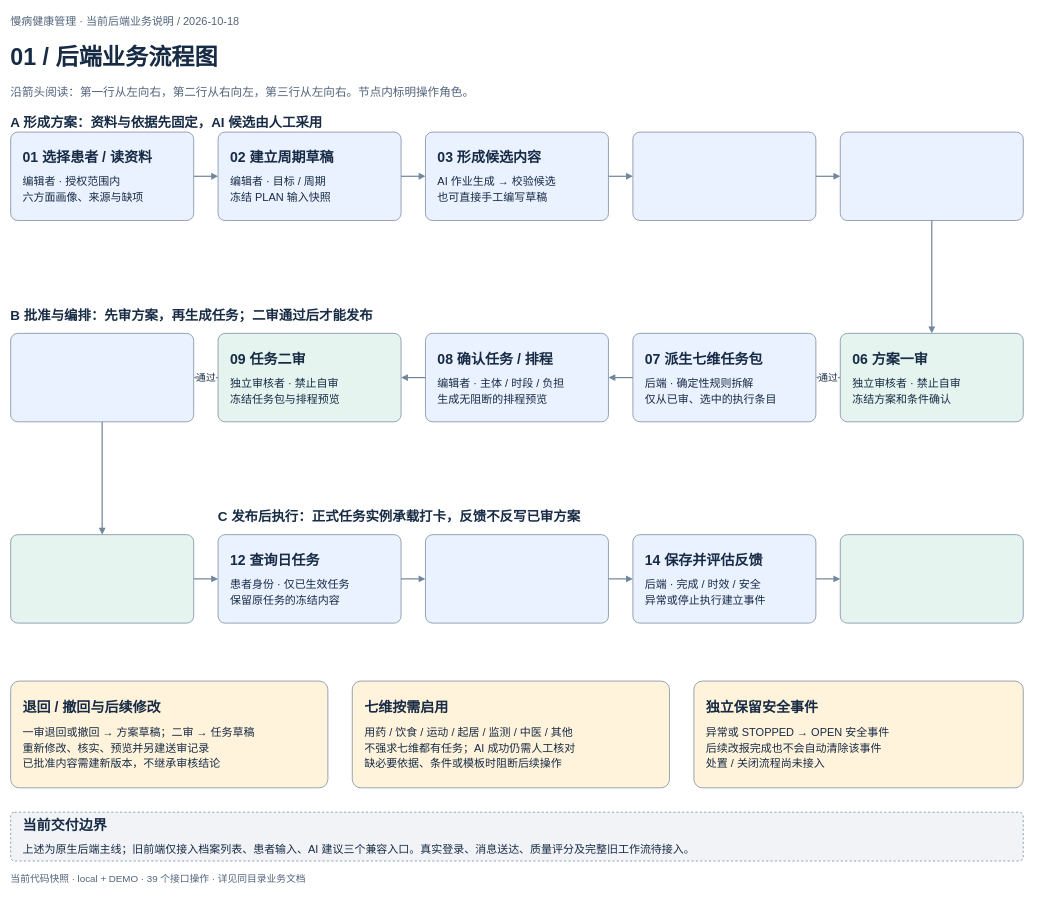
Some shapes in this 1046 by 897 pixel diagram are drawn without their labels. The centre of each missing label's shape, as x and y in pixels:
"04 采用 / 编辑方案 编辑者 · AI 成功不自动采用 主目标、模块、七维建议" goes at (x=724, y=176).
"05 确认执行条件 核实主体、环境和必要来源 改正文后须重新确认" goes at (x=931, y=176).
"10 核对发布衔接 发布者 · 新建 / 保留 / 替代 NONE 或 ALL_FUTURE" goes at (x=102, y=377).
"11 事务发布 后端 · 复制已审排程实例 按幂等键去重，失败回滚" goes at (x=102, y=578).
"13 打卡 / 补记 / 更正 患者身份 · 一键完成或反馈 历史追加，遵守执行窗口" goes at (x=517, y=578).
"15 展示当前结果 完成、时效和安全分开呈现 计完成模式，无质量分数" goes at (x=931, y=578).
